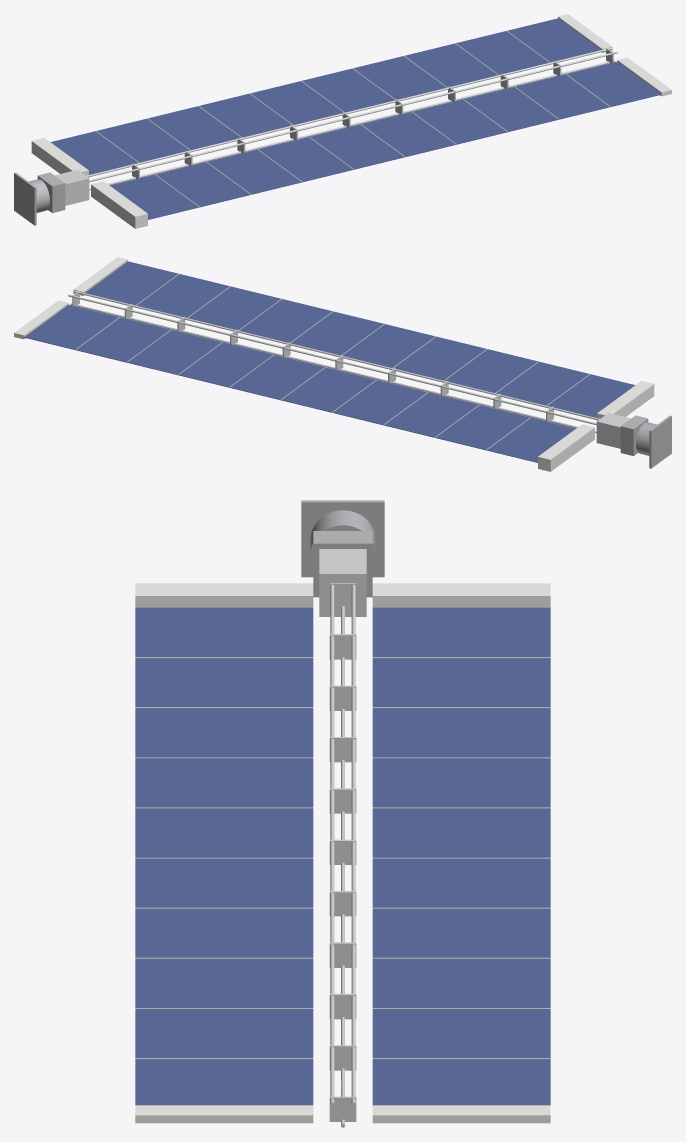
File: power01_solar_wing_deployed.glb
3 renders of one model, top to bottom at view 1: azimuth 30°, elevation 25°; view 2: azimuth 150°, elevation 25°; view 3: azimuth 270°, elevation 25°, orthographic. The views are drawn at different scales.
Parts seen in each view (by area): view 1: blankets, mast, blanket_boxes, beta_gimbal, hinge_lines, tip_lids, mast_canister; view 2: blankets, mast, blanket_boxes, beta_gimbal, hinge_lines, tip_lids, mast_canister; view 3: blankets, mast, blanket_boxes, tip_lids, hinge_lines, beta_gimbal, mast_canister.
Boxes of the visible parts, x1,y1,x2,y2 form: blankets: [50, 18, 661, 219]; mast: [86, 47, 617, 190]; blanket_boxes: [31, 138, 147, 228]; beta_gimbal: [14, 172, 65, 225]; hinge_lines: [95, 30, 610, 207]; tip_lids: [558, 14, 671, 96]; mast_canister: [55, 170, 89, 205]; blankets: [24, 261, 635, 462]; mast: [68, 290, 599, 433]; blanket_boxes: [538, 381, 654, 471]; beta_gimbal: [620, 415, 671, 468]; hinge_lines: [75, 273, 590, 450]; tip_lids: [14, 257, 127, 339]; mast_canister: [596, 413, 630, 448]; blankets: [135, 607, 550, 1105]; mast: [329, 583, 356, 1127]; blanket_boxes: [135, 583, 550, 607]; tip_lids: [135, 1105, 550, 1123]; hinge_lines: [135, 657, 550, 1059]; beta_gimbal: [301, 500, 384, 597]; mast_canister: [319, 549, 366, 616].
Bounding box in the file's own units: 23.2 × 1.4 × 7.
